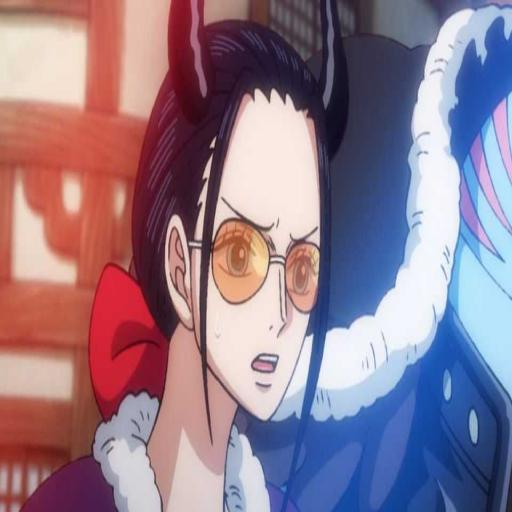NicoRobin: (62, 0, 326, 512)
